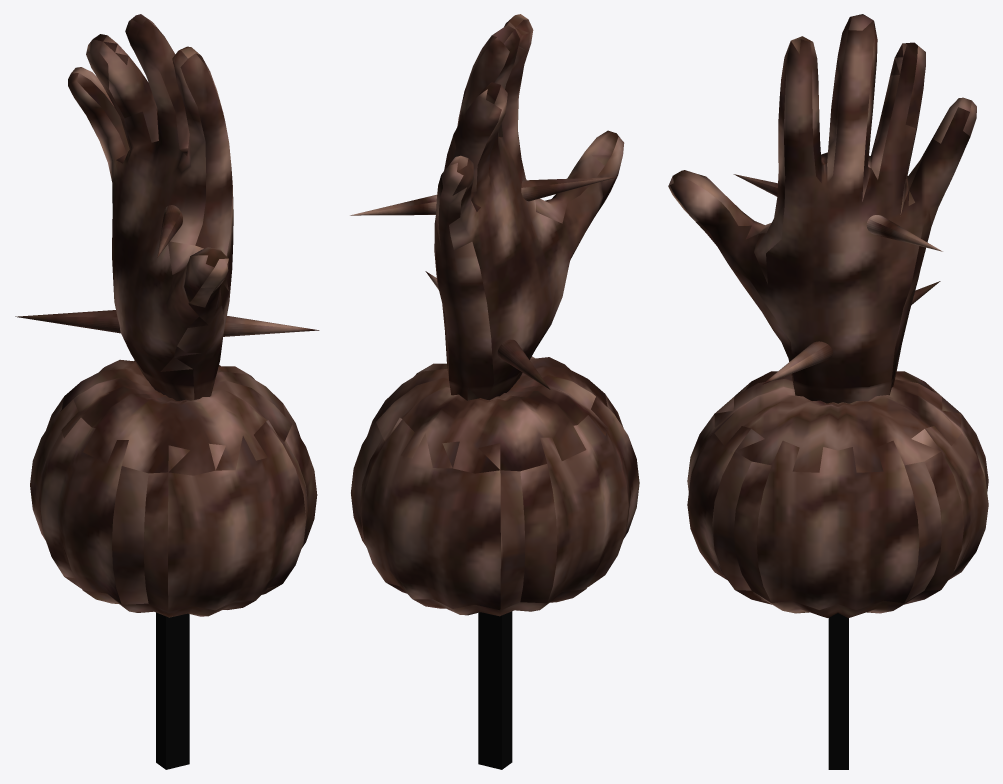
Rendered from Slap_12.obj.
The picture shows the model from 3 angles, left to right: view 1: azimuth 30°, elevation 25°; view 2: azimuth 150°, elevation 25°; view 3: azimuth 270°, elevation 25°; orthographic projection.
Parts seen in each view (by area): view 1: Pumpkin1, Handle1, Stick1, Spike14, Spike12, Spike13; view 2: Pumpkin1, Handle1, Stick1, Spike13, Spike11, Spike14; view 3: Pumpkin1, Handle1, Stick1, Spike12, Spike11.
Boxes of the visible parts, <box> form: Pumpkin1: <box>30,359,317,617</box>; Handle1: <box>68,14,233,400</box>; Stick1: <box>156,612,189,769</box>; Spike14: <box>15,310,120,333</box>; Spike12: <box>223,316,319,336</box>; Spike13: <box>157,205,182,257</box>; Pumpkin1: <box>351,356,639,616</box>; Handle1: <box>434,14,624,400</box>; Stick1: <box>478,611,512,769</box>; Spike13: <box>521,177,617,201</box>; Spike11: <box>350,194,436,215</box>; Spike14: <box>497,339,550,389</box>; Pumpkin1: <box>687,371,988,618</box>; Handle1: <box>668,14,976,403</box>; Stick1: <box>828,613,848,769</box>; Spike12: <box>762,341,832,384</box>; Spike11: <box>866,215,942,251</box>.
Bounding box in the file's own units: 2.2 × 6.5 × 2.55.
